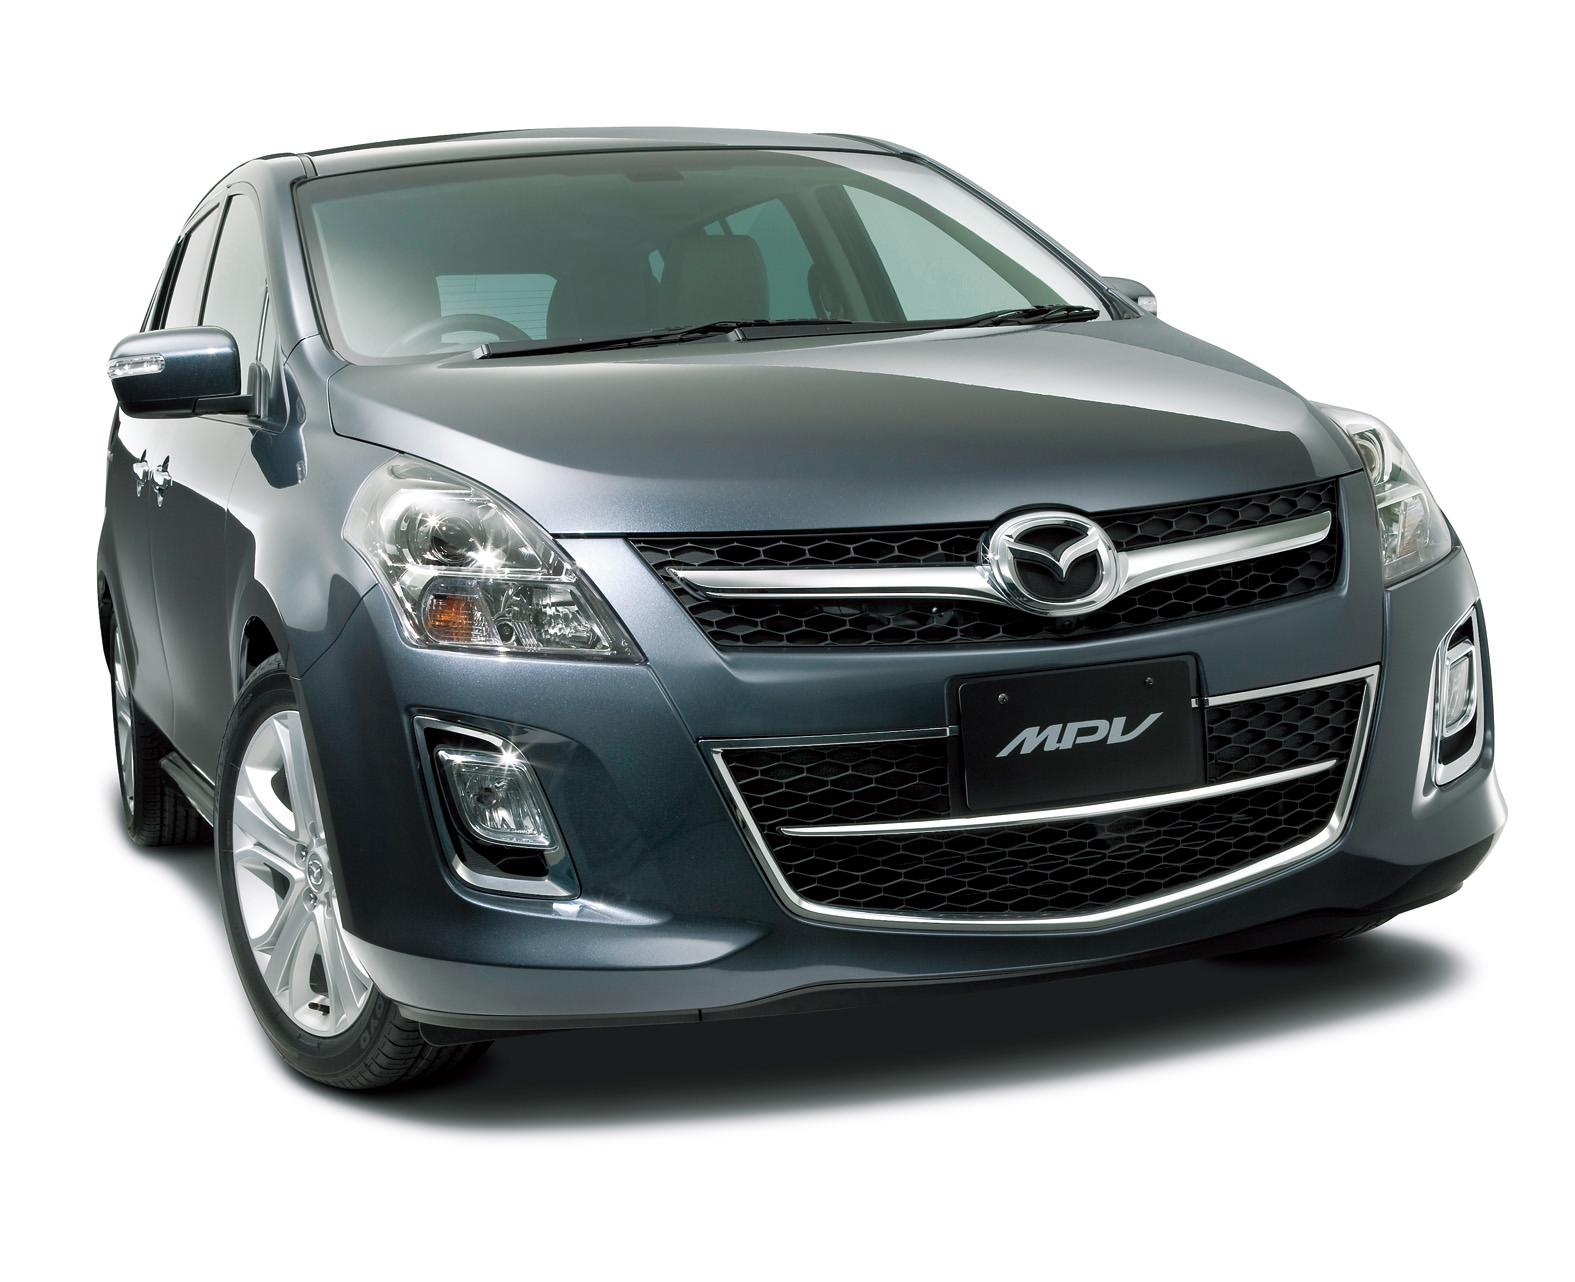car: (95, 126, 1506, 1101)
